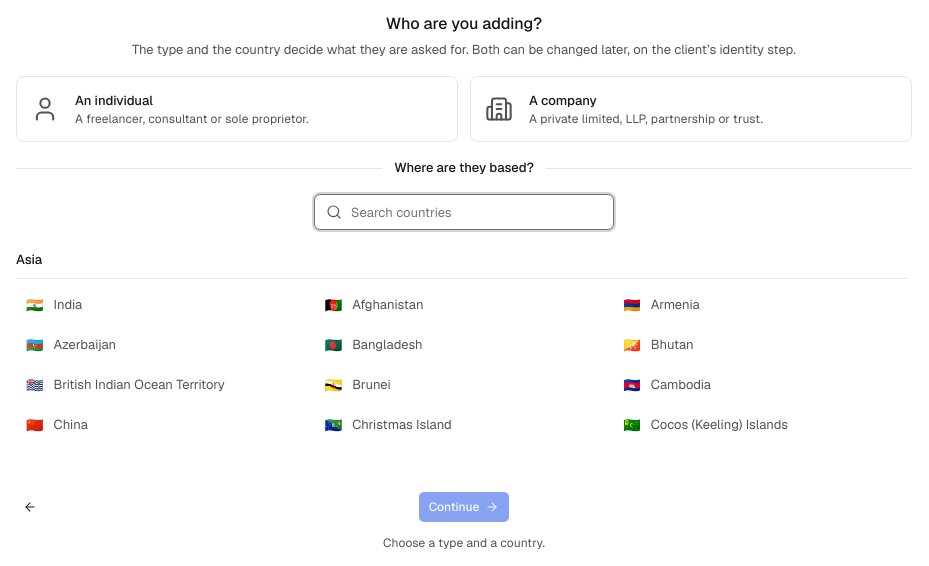
Test: CountryChooser › finds a country by its code
This screenshot has width=929, height=566.
Type "ae" into the search field labelled "Search countries".
click(464, 212); type("ae")  # box 314,194 -> 614,230
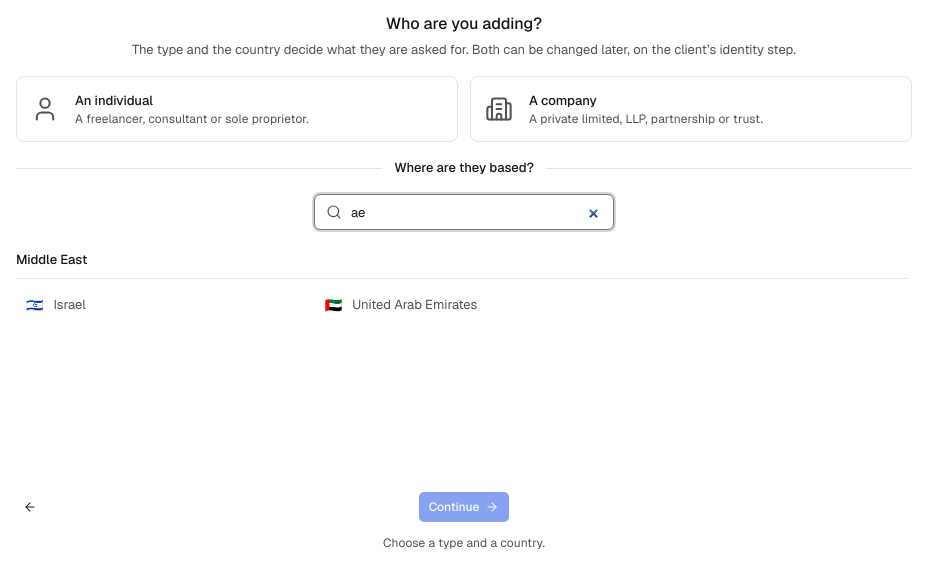
expect the button "🇦🇪 United Arab Emirates" is shown: met, box 315,287 -> 609,323
